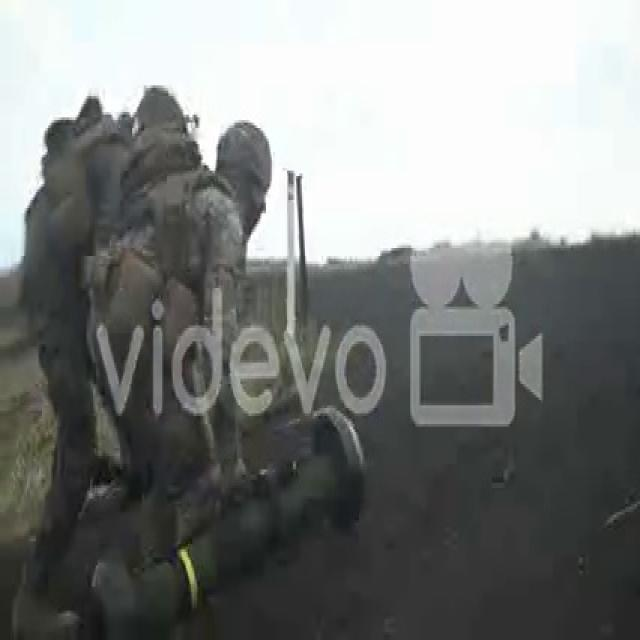bazooka: (83, 401, 371, 640)
